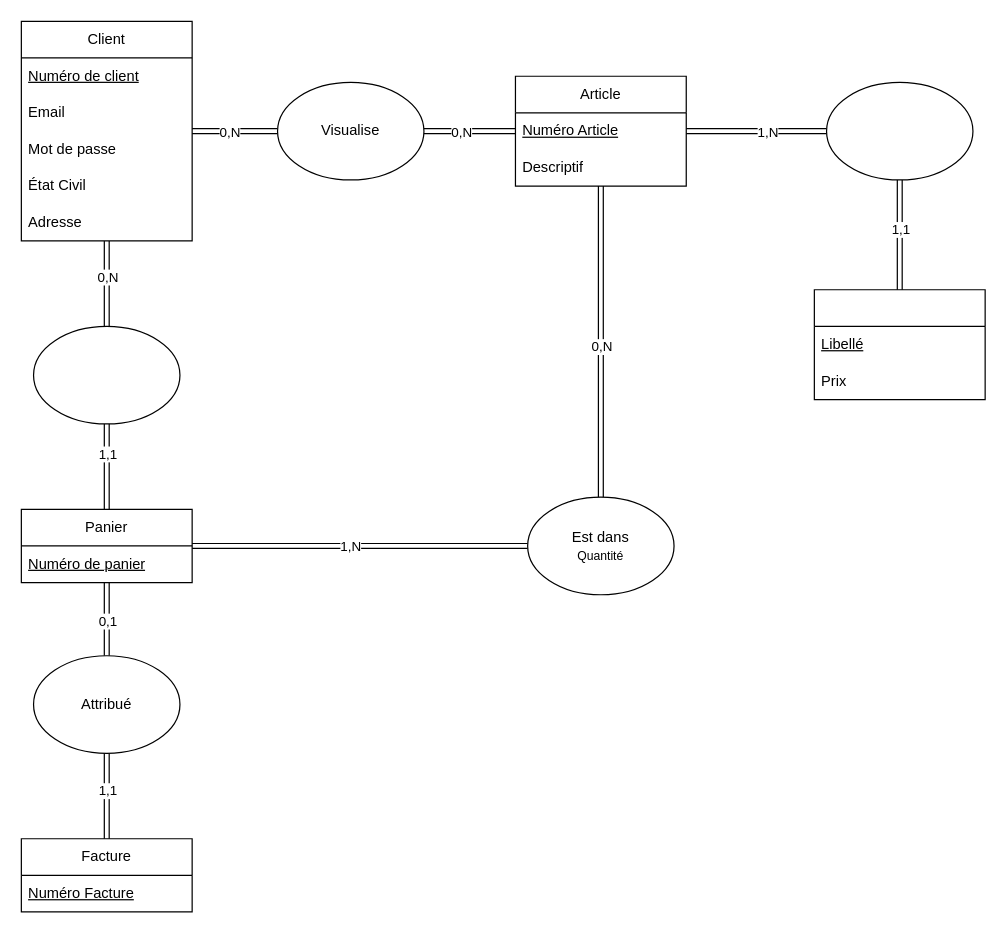
This 1007x933 diagram has some shape labels left out. The shapes that lost their labels are listed below. From the top down, each one's box as (x1, y1, x2, y2) in pixels, then its label:
(825, 81, 973, 180): Fixation du prix
(813, 289, 985, 400): Périodes
(32, 325, 180, 424): Créer
